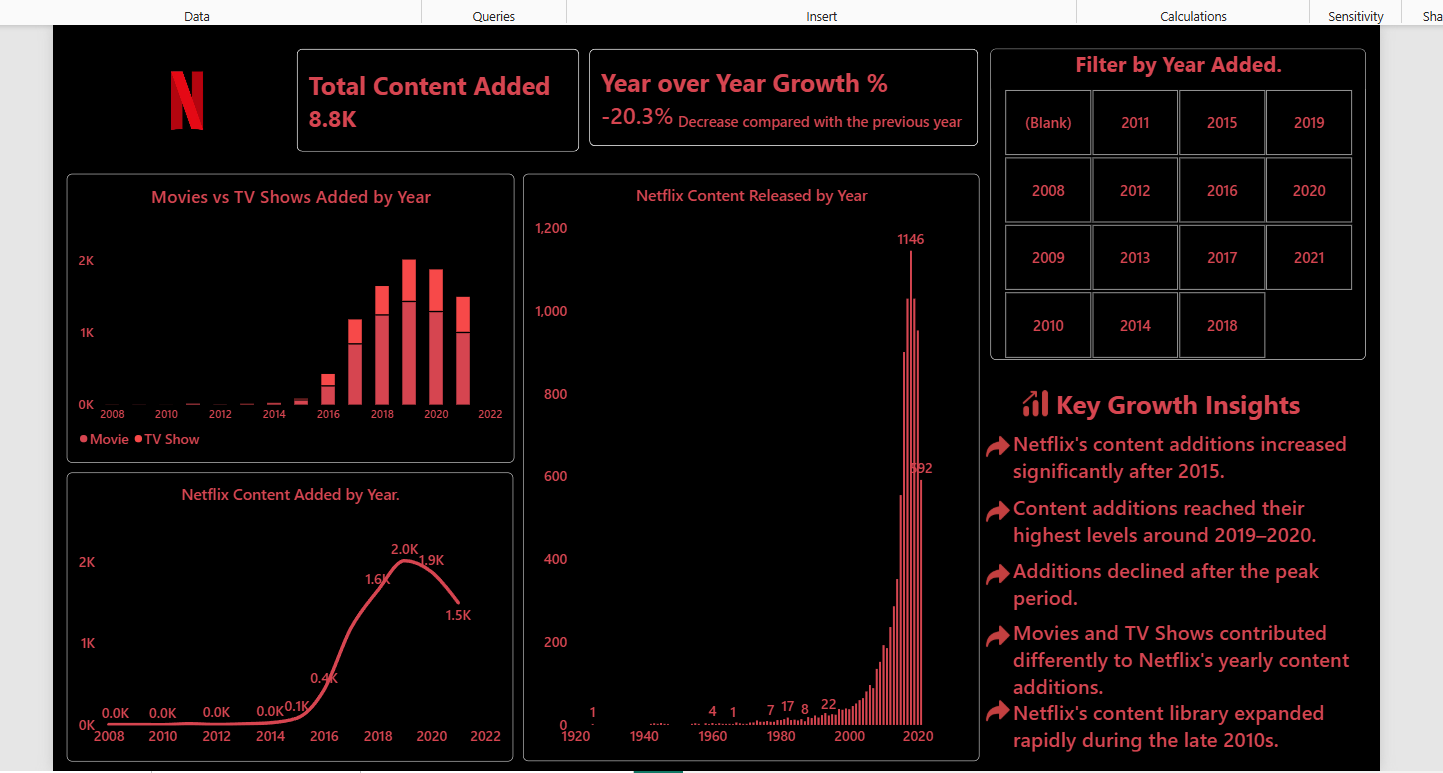

The page's visual inventory and layout, read from the dashboard file:
{"tool":"powerbi","page":{"name":"Content Growth Trends","canvas":[1920,1080],"ordinal":1},"visuals":[{"type":"clusteredColumnChart","title":"Netflix Content Released by Year","fields":{"Category":["netflix_cleaned.release_year"],"Y":["Count(netflix_cleaned.show_id)"]},"box":[680.4,215.3,660.5,850.5],"z":0},{"type":"lineChart","title":"Netflix Content Added by Year.","fields":{"Category":["netflix_cleaned.year_added"],"Y":["Count(netflix_cleaned.show_id)"]},"box":[19.9,647.9,646,418],"z":1},{"type":"cardVisual","fields":{"Data":["netflix_cleaned.Total Content Added"]},"box":[352.8,34.6,409,149.3],"z":2},{"type":"cardVisual","fields":{"Data":["netflix_cleaned.Year over Year Growth %"]},"box":[776.9,34.7,563.3,149.5],"z":3},{"type":"slicer","title":"Filter by Year Added.","fields":{"Values":["netflix_cleaned.year_added"]},"box":[1356.9,34.6,543.2,450.1],"z":4},{"type":"columnChart","title":"Movies vs TV Shows Added by Year","fields":{"Category":["netflix_cleaned.year_added"],"Series":["netflix_cleaned.type"],"Y":["Count(netflix_cleaned.show_id)"]},"box":[19.9,215.3,647.9,418],"z":5},{"type":"image","box":[37,34,316,150],"z":6},{"type":"textbox","title":"Key Growth Insights","box":[1356.9,512.9,543.2,541],"z":7},{"type":"textbox","title":"Netflix''s content additions increased significantly after 2015.","box":[1389.4,584.3,510.7,93.1],"z":9},{"type":"textbox","title":" Content additions reached their highest levels around 2019–2020.","box":[1389.4,677.4,510.7,136.3],"z":10},{"type":"textbox","title":"Additions declined after the peak period.","box":[1389.4,768.3,510.7,93.1],"z":11},{"type":"textbox","box":[1389.4,861.3,510.7,112.5],"z":12},{"type":"textbox","title":"Movies and TV Shows contributed differently to Netflix''s yearly content additions.","box":[1389.4,857,510.7,116.9],"z":13},{"type":"textbox","title":" Netflix''s content library expanded rapidly during the late 2010s.","box":[1389.4,973.9,510.7,80.1],"z":14},{"type":"image","box":[1375.3,524.8,94.1,45.2],"z":15},{"type":"image","box":[1346.4,584.5,43.4,50.7],"z":16},{"type":"image","box":[1346.4,676.8,43.4,54.3],"z":17},{"type":"image","box":[1346.4,769.1,43.4,52.5],"z":18},{"type":"image","box":[1346.4,854.2,43.4,61.5],"z":19},{"type":"image","box":[1346.4,959.1,43.4,67],"z":21},{"type":"textbox","title":"Decrease compared with the previous year","box":[904.8,124.9,503.1,38],"z":22}]}

Visuals, with their boxes on the page's 1920x1080 design canvas (x1, y1, x2, y2). These are canvas units, not pixel positions in the 1443x773 screenshot, which may show the page scaled, cropped or inside an application window:
"Netflix Content Released by Year" clusteredColumnChart: bbox(680, 215, 1341, 1066)
"Netflix Content Added by Year." lineChart: bbox(20, 648, 666, 1066)
cardVisual - netflix_cleaned.Total Content Added: bbox(353, 35, 762, 184)
cardVisual - netflix_cleaned.Year over Year Growth %: bbox(777, 35, 1340, 184)
"Filter by Year Added." slicer: bbox(1357, 35, 1900, 485)
"Movies vs TV Shows Added by Year" columnChart: bbox(20, 215, 668, 633)
image: bbox(37, 34, 353, 184)
"Key Growth Insights" textbox: bbox(1357, 513, 1900, 1054)
"Netflix''s content additions increased significantly after 2015." textbox: bbox(1389, 584, 1900, 677)
" Content additions reached their highest levels around 2019–2020." textbox: bbox(1389, 677, 1900, 814)
"Additions declined after the peak period." textbox: bbox(1389, 768, 1900, 861)
textbox: bbox(1389, 861, 1900, 974)
"Movies and TV Shows contributed differently to Netflix''s yearly content additions." textbox: bbox(1389, 857, 1900, 974)
" Netflix''s content library expanded rapidly during the late 2010s." textbox: bbox(1389, 974, 1900, 1054)
image: bbox(1375, 525, 1469, 570)
image: bbox(1346, 584, 1390, 635)
image: bbox(1346, 677, 1390, 731)
image: bbox(1346, 769, 1390, 822)
image: bbox(1346, 854, 1390, 916)
image: bbox(1346, 959, 1390, 1026)
"Decrease compared with the previous year" textbox: bbox(905, 125, 1408, 163)
